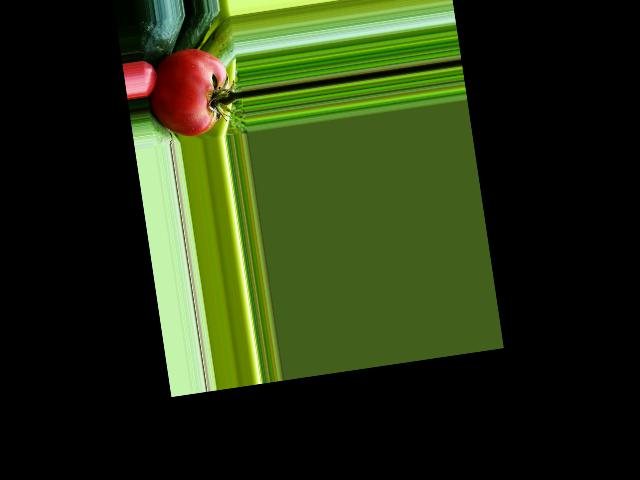tomato: (142, 44, 235, 141)
